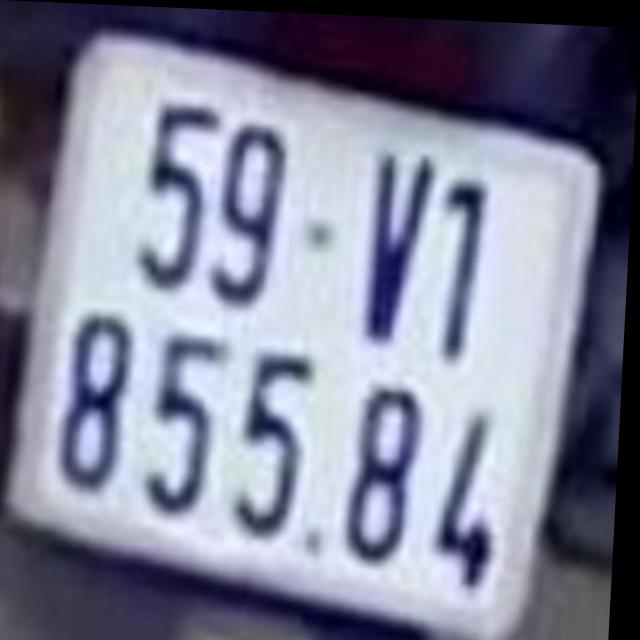1: (444, 169, 486, 362)
4: (441, 401, 506, 594)
5: (137, 100, 215, 292), (241, 347, 317, 540), (150, 328, 227, 516)
8: (349, 377, 426, 565), (62, 310, 138, 482)
9: (213, 116, 291, 312)
V: (361, 146, 443, 348)
